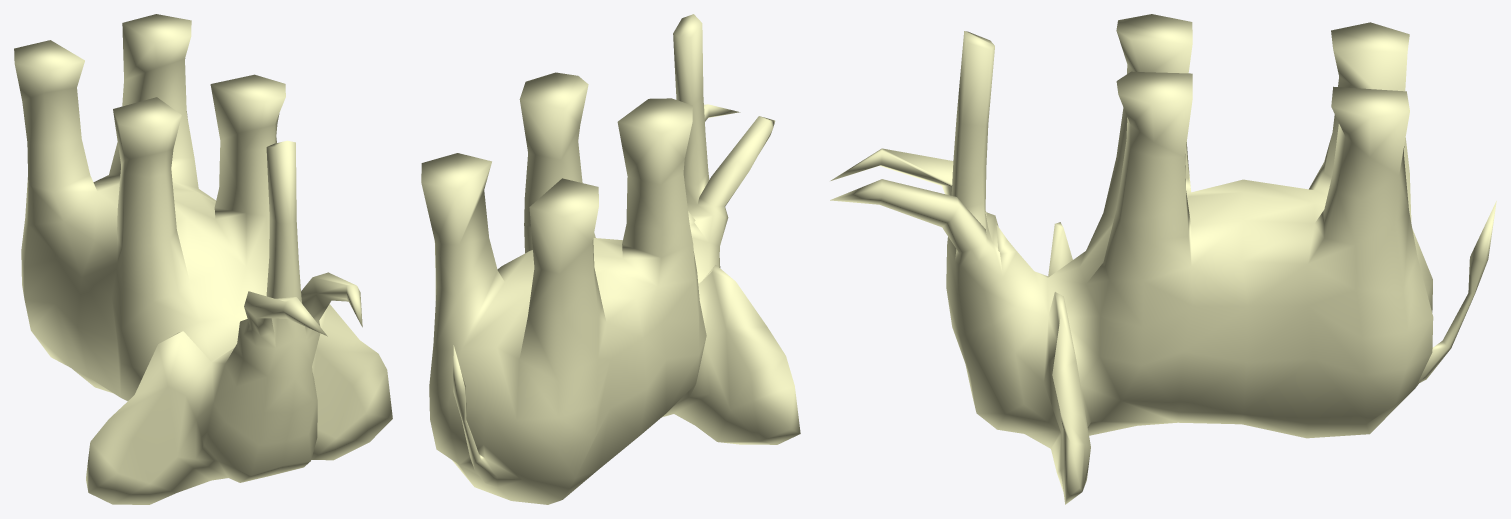
The model's file is elephant1_3.dae.
The picture shows the model from 3 angles, left to right: view 1: azimuth 30°, elevation 25°; view 2: azimuth 150°, elevation 25°; view 3: azimuth 270°, elevation 25°; orthographic projection. The views are drawn at different scales.
Parts seen in each view (by area): view 1: elephant1_019; view 2: elephant1_019; view 3: elephant1_019.
Boxes of the visible parts, x1,y1,x2,y2 form: elephant1_019: [14, 14, 392, 504]; elephant1_019: [421, 14, 800, 504]; elephant1_019: [830, 14, 1496, 504].
Size of the model in its own units: 0.2121 by 0.3642 by 0.2496.
